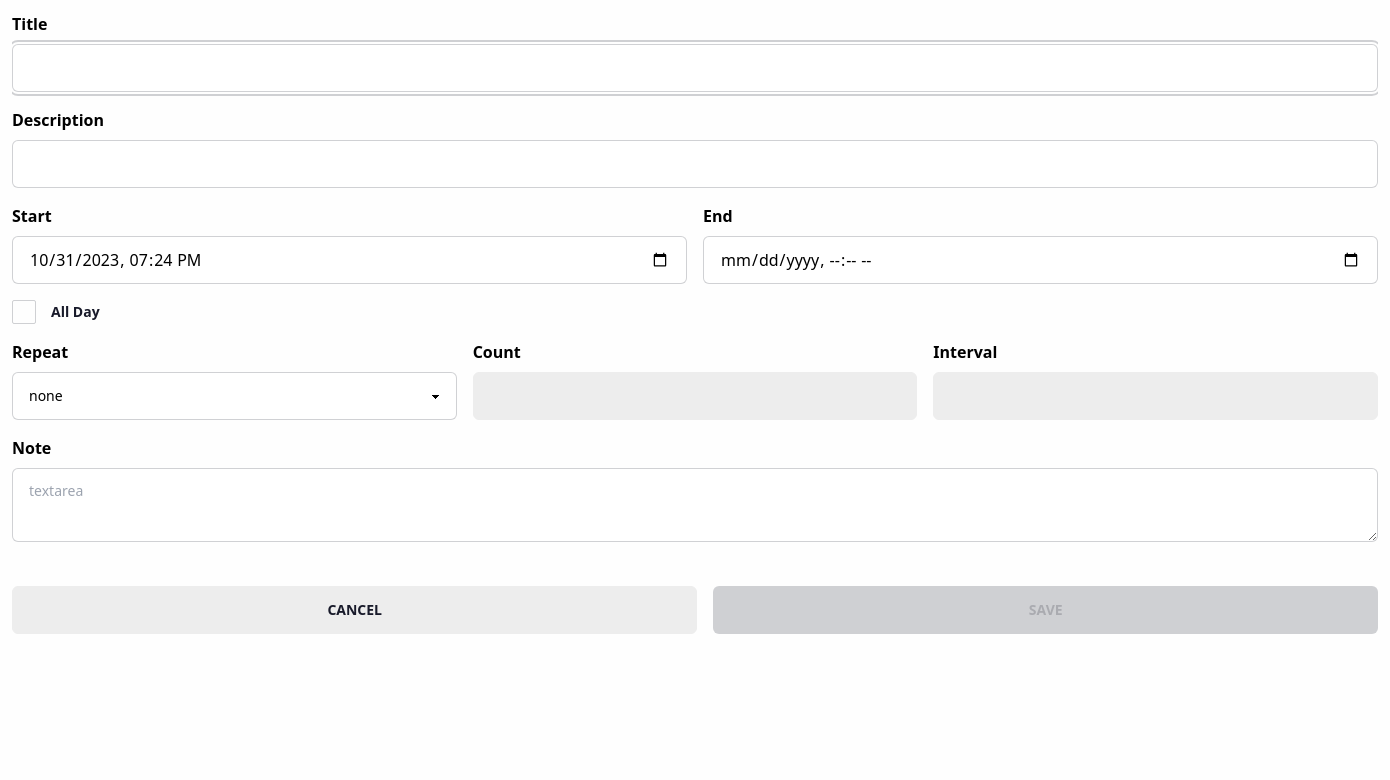
EventForm › should show Validation error without title
Type "something" into the field named "description" below "Description" at (695, 164), box [12, 140, 1378, 188]
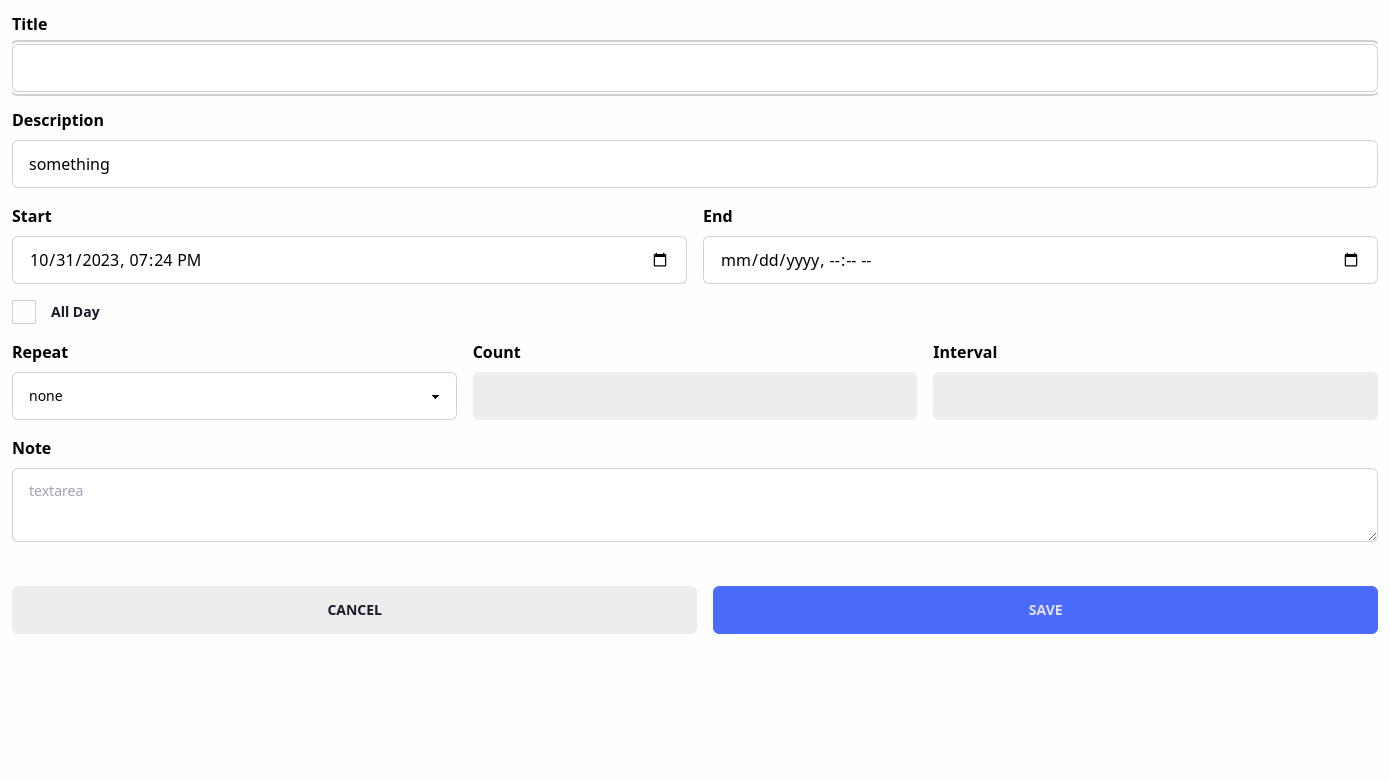
Click the button "Save" at (1046, 610), box [713, 586, 1378, 634]
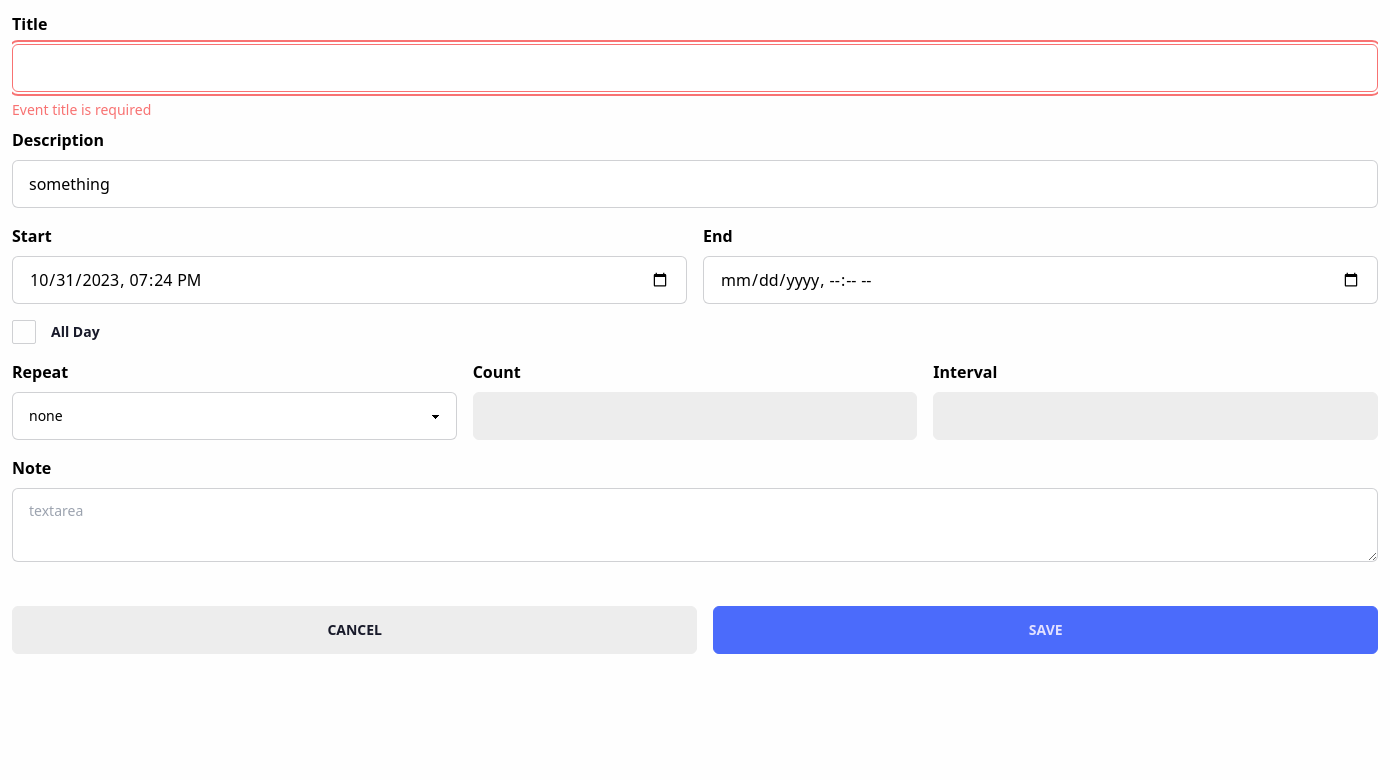
Now the text "Event title is required" is shown, box [12, 100, 151, 119]
